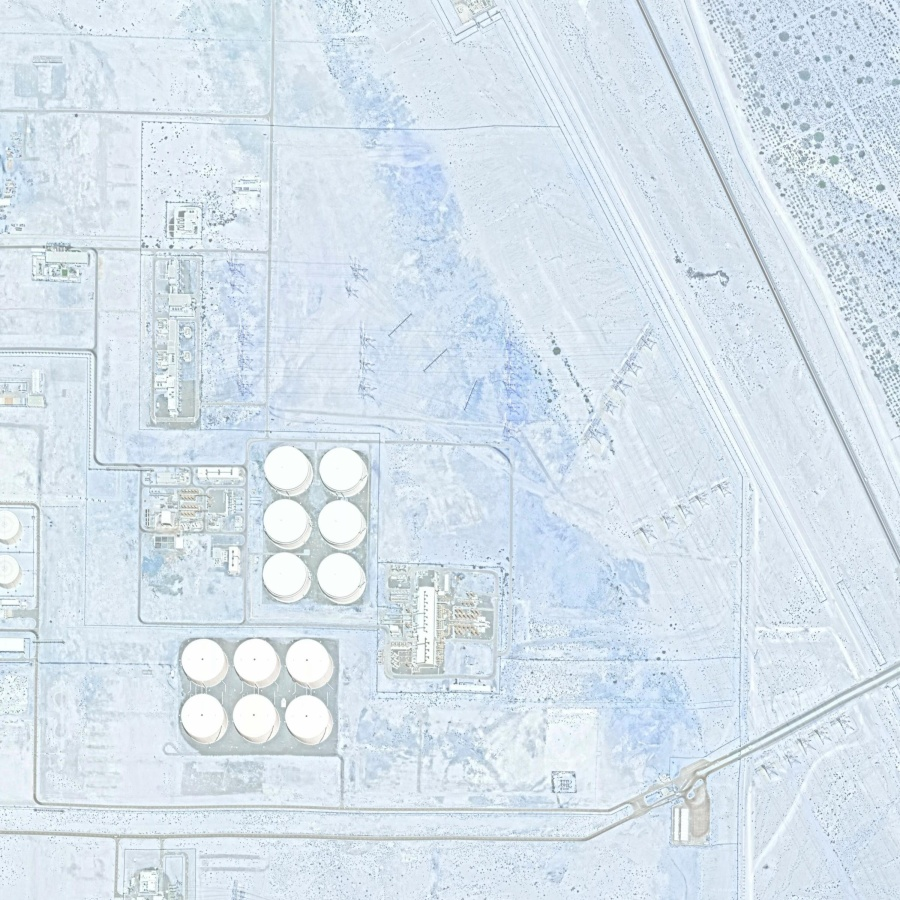PowerPlant: (118, 413, 498, 771)
